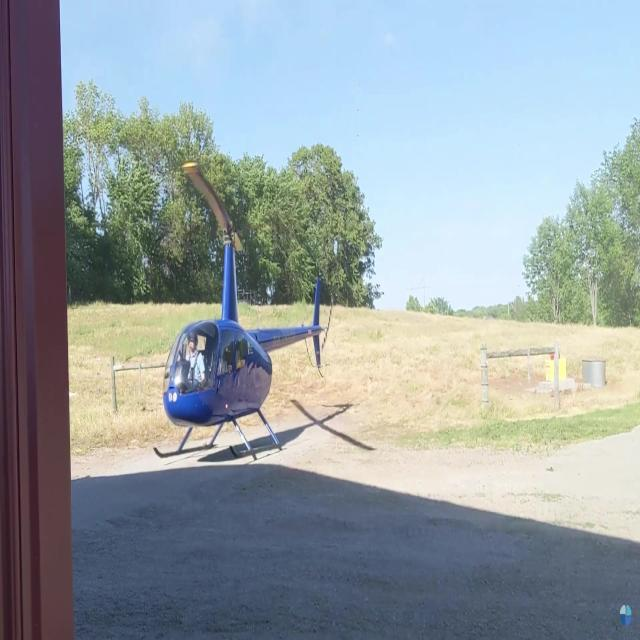CIV_HELO: (152, 219, 324, 462)
